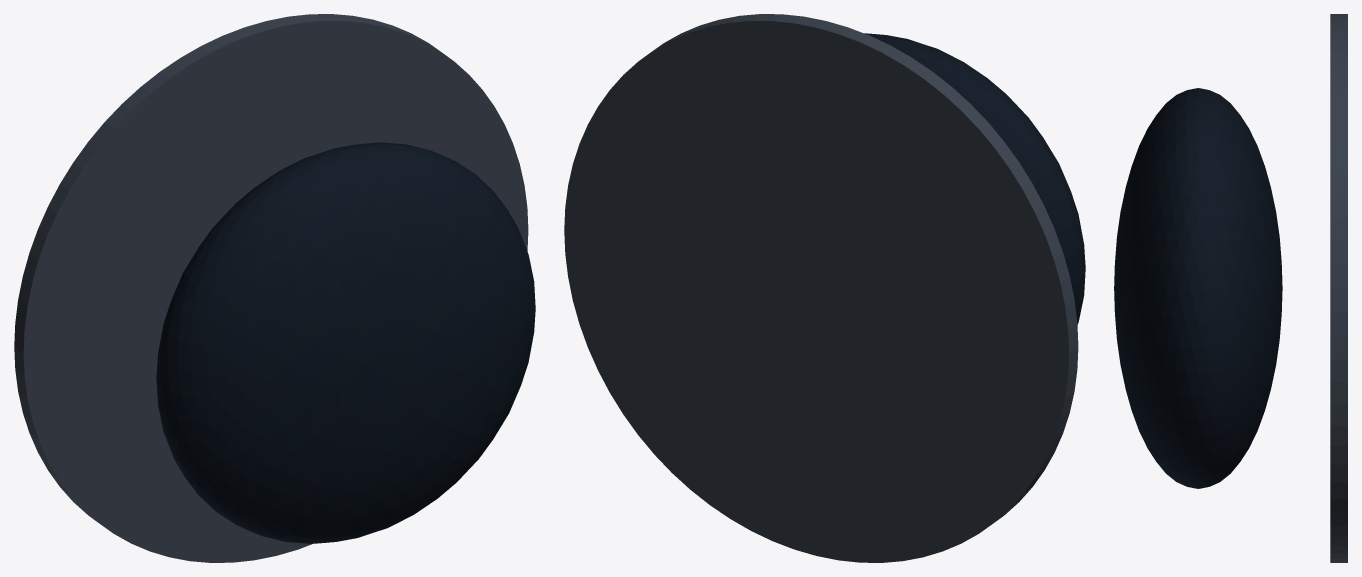
File: ev_core_r10s_void.glb
3 renders of one model, left to right at view 1: azimuth 30°, elevation 25°; view 2: azimuth 150°, elevation 25°; view 3: azimuth 270°, elevation 25°, orthographic. The views are drawn at different scales.
Parts seen in each view (by area): view 1: CognitionVoid, RearCollar; view 2: RearCollar, CognitionVoid; view 3: CognitionVoid, RearCollar.
Boxes of the visible parts, x1=… form: CognitionVoid: x1=156, y1=142, x2=535, y2=543; RearCollar: x1=14, y1=14, x2=528, y2=562; RearCollar: x1=564, y1=14, x2=1078, y2=562; CognitionVoid: x1=864, y1=33, x2=1085, y2=324; CognitionVoid: x1=1114, y1=88, x2=1282, y2=488; RearCollar: x1=1330, y1=14, x2=1347, y2=562.
Size of the model in its own units: 156 by 156 by 66.44.
